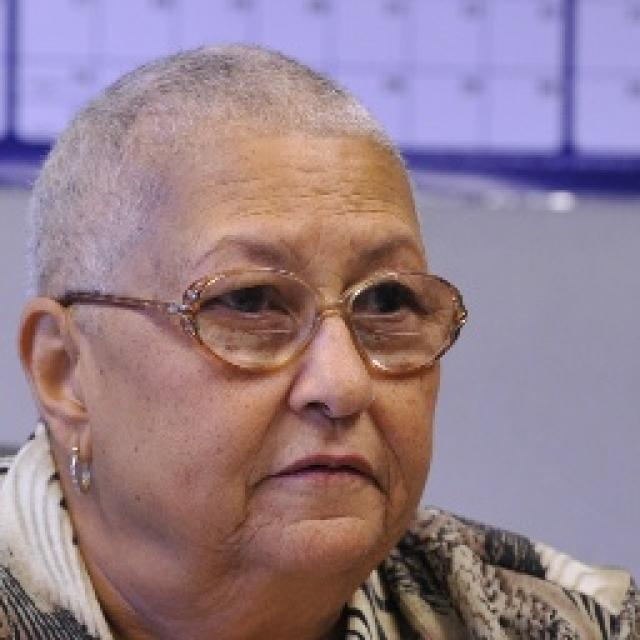earlobe: (16, 297, 95, 464)
